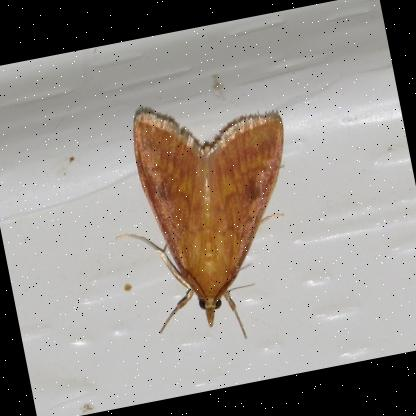Asian Corn Borer Moth: (89, 82, 324, 363)
